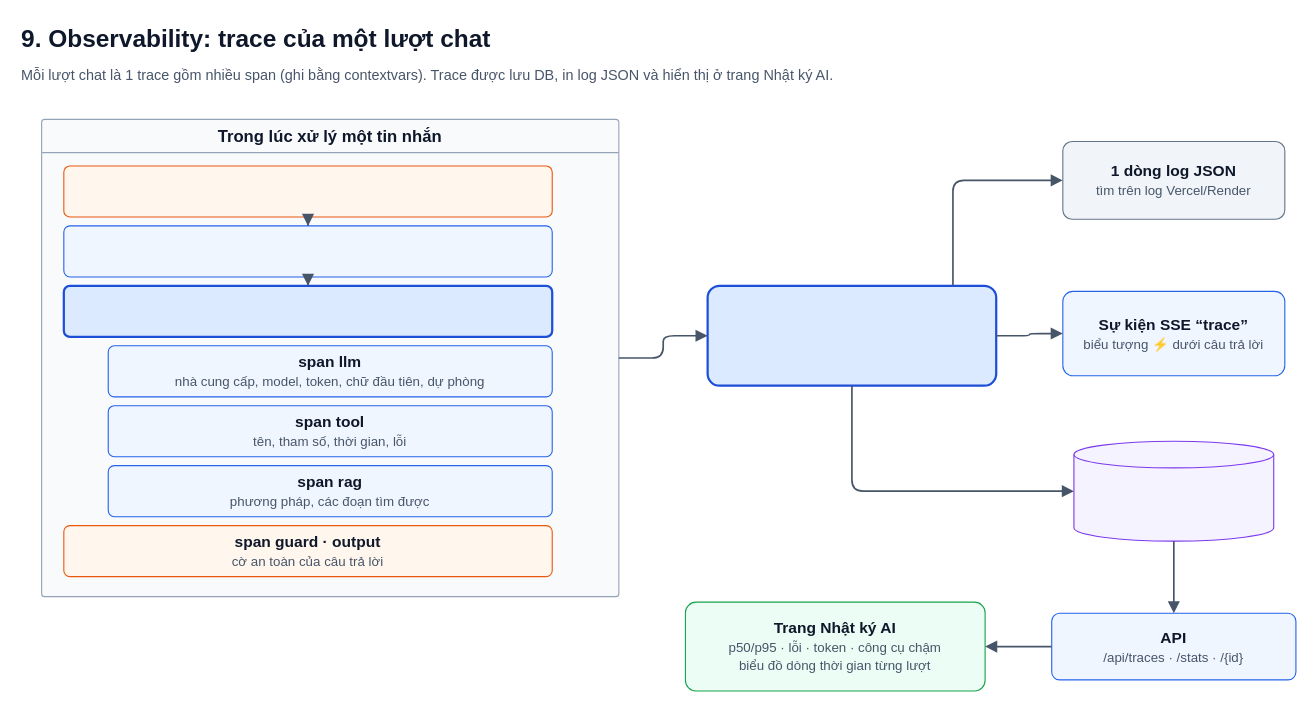
The diagram is 1315 pixels wide and 710 high, and some of its shapes have lost their labels. The shapes that lost their labels are listed below. From the top down, each one's centre as x and y in pixels, then its label:
At point 307,191: "span guard · input mức, loại, phương pháp, ghi chú".
At point 307,251: "span router agent được chọn, cách định tuyến".
At point 307,310: "span agent ví dụ coachbro".
At point 851,335: "Trace tổng thời gian · TTFT · số LLM / công cụ token vào/ra · ok / lỗi / bị chặn".
At point 1173,490: "bảng agent_traces giữ 30 ngày".
